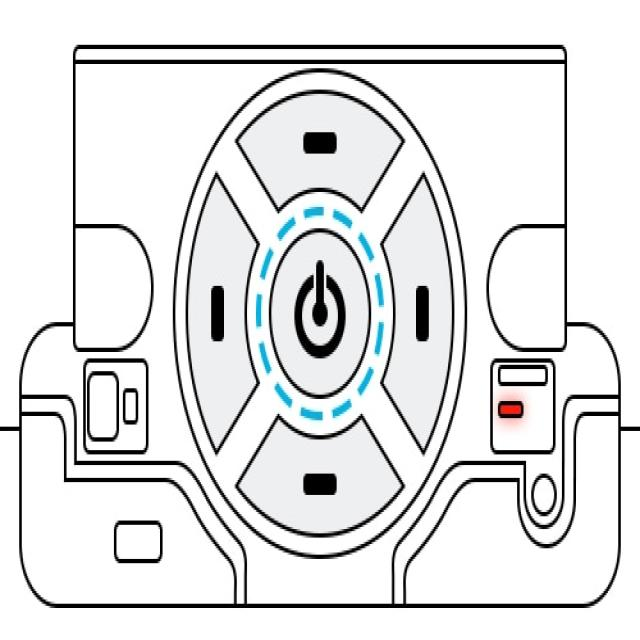electronics: (22, 45, 618, 599)
